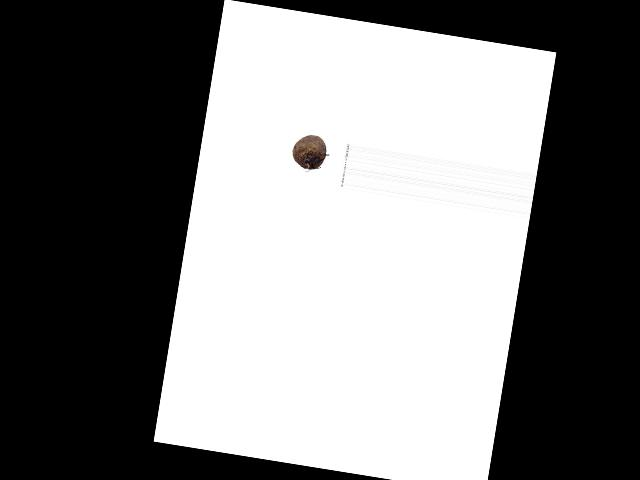beet: (290, 131, 328, 170)
